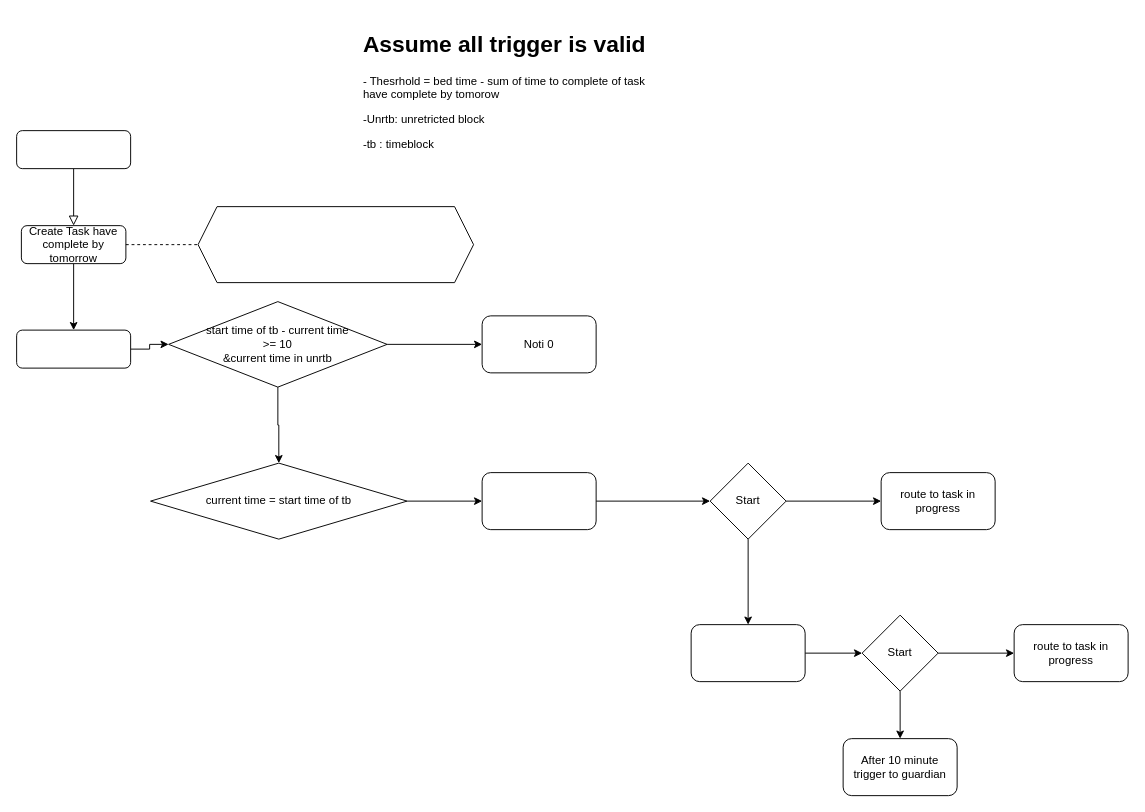
This 1145x812 diagram has some shape labels left out. The centre of each missing label's shape, as x and y in pixels:
"After 10 minute => noti 2" goes at (x=747, y=653).
"Create Last activity" goes at (x=73, y=149).
"noti 1" goes at (x=538, y=501).
"Schedule task in Unrtb" goes at (x=73, y=348).
"Unretricted = endtime Last Activity -> threshold" goes at (x=335, y=244).
